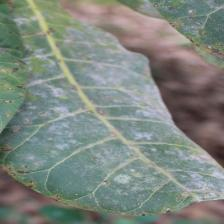red rust: (0, 0, 223, 212)
